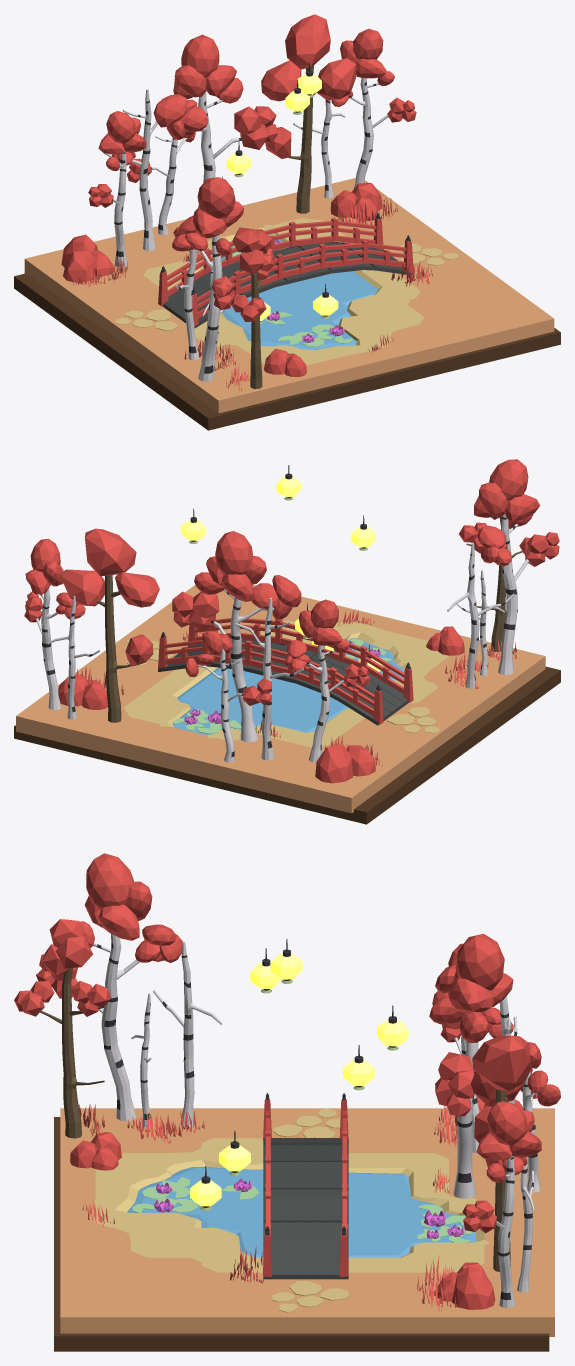
File: japanese-garden.glb
3 views of the same model, one above another, from view 1: azimuth 30°, elevation 25°; view 2: azimuth 150°, elevation 25°; view 3: azimuth 270°, elevation 25° (orthographic). The views are drawn at different scales.
Bounding box in the file's own units: 11.36 × 7.01 × 11.37.
2 materials, 2 textured.
